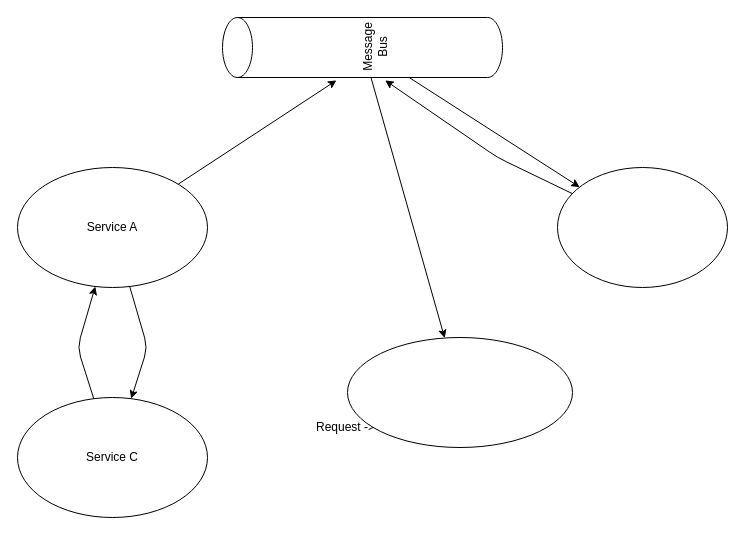
Some shapes in this 745 by 535 pixel diagram are drawn without their labels. The box of each missing label's shape, as (x1, y1, x2, y2) in pixels:
Notification Service: (346, 336, 572, 448)
Service B: (556, 166, 728, 288)
